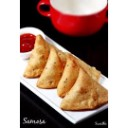samosa: (62, 68, 109, 109), (24, 34, 61, 77), (39, 47, 71, 89)
